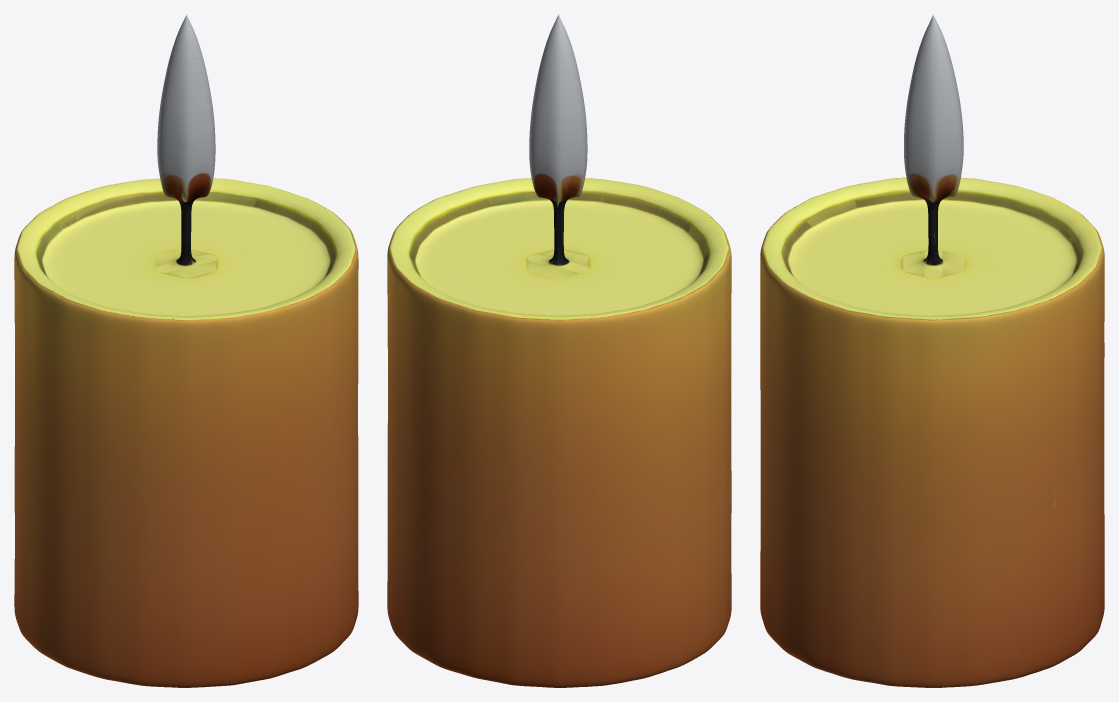
The model's file is Candle.fbx.
3 views of the same model, side by side, from view 1: azimuth 30°, elevation 25°; view 2: azimuth 150°, elevation 25°; view 3: azimuth 270°, elevation 25° (orthographic).
Visible parts, largest first — view 1: Candle; view 2: Candle; view 3: Candle.
Boxes of the visible parts, bbox=[...] form: Candle: bbox=[14, 14, 358, 687]; Candle: bbox=[387, 14, 731, 687]; Candle: bbox=[760, 14, 1104, 687].
Size of the model in its own units: 96.85 by 187 by 96.78.
Materials: 1 (1 with a texture image).
